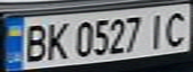0: (72, 18, 93, 58)
2: (109, 16, 130, 55)
5: (90, 16, 112, 56)
7: (124, 12, 145, 52)
B: (18, 20, 51, 63)
C: (160, 8, 193, 48)
I: (145, 10, 172, 49)
K: (42, 19, 69, 62)
